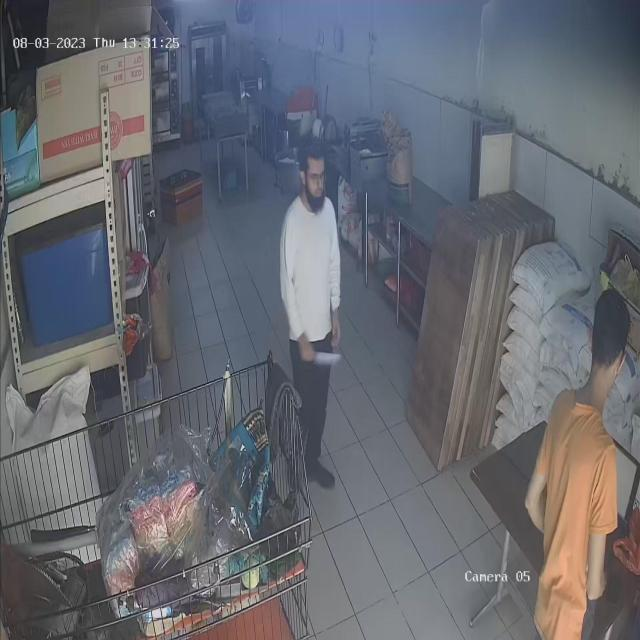Knife: (293, 327, 347, 376)
